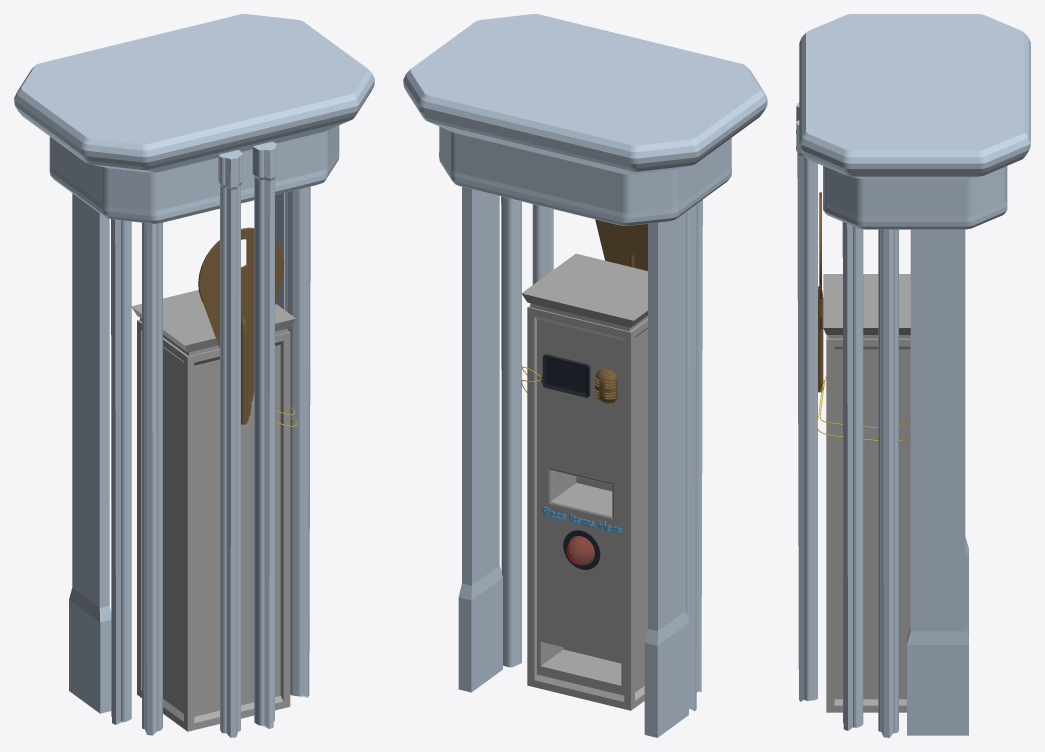
The model's file is koiskV03.fbx.
The picture shows the model from 3 angles, left to right: view 1: azimuth 30°, elevation 25°; view 2: azimuth 150°, elevation 25°; view 3: azimuth 270°, elevation 25°; orthographic projection.
Visible parts, largest first — view 1: pillar3.001, koisk.001, key_clock.001; view 2: pillar3.001, koisk.001, key_clock.001; view 3: pillar3.001, koisk.001, key_clock.001.
Boxes of the visible parts, x1,y1,x2,y2 form: pillar3.001: (14,14,374,737); koisk.001: (131,290,297,731); key_clock.001: (198,227,284,424); pillar3.001: (403,14,767,737); koisk.001: (521,253,647,710); key_clock.001: (595,219,647,270); pillar3.001: (796,14,1030,737); koisk.001: (816,274,910,712); key_clock.001: (818,192,823,392).
Size of the model in its own units: 3.08 by 6.15 by 2.15.
